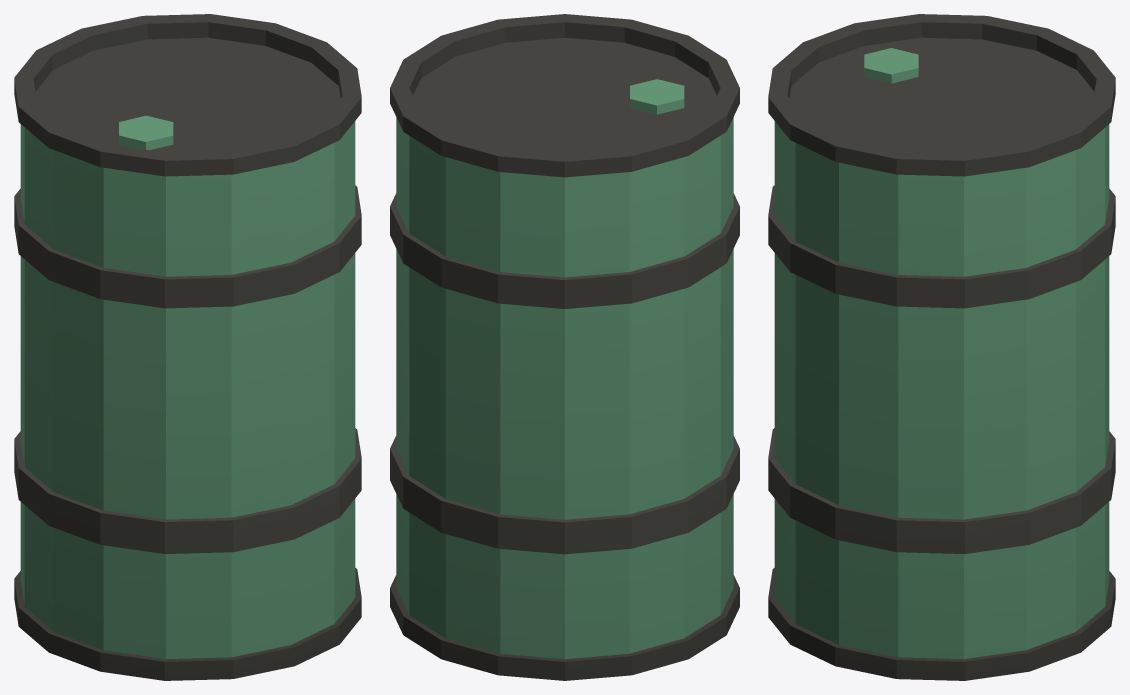
Rendered from farm_barrel.glb.
3 views of the same model, side by side, from view 1: azimuth 30°, elevation 25°; view 2: azimuth 150°, elevation 25°; view 3: azimuth 270°, elevation 25° (orthographic).
Parts seen in each view (by area): view 1: farm_barrel; view 2: farm_barrel; view 3: farm_barrel.
Part boxes in pixels (box(x1,y1,x2,y2)): farm_barrel: box(14, 14, 361, 680); farm_barrel: box(390, 14, 739, 680); farm_barrel: box(768, 14, 1115, 680).
Bounding box in the file's own units: 0.5559 × 0.9177 × 0.5559.
1 material, 1 textured.
